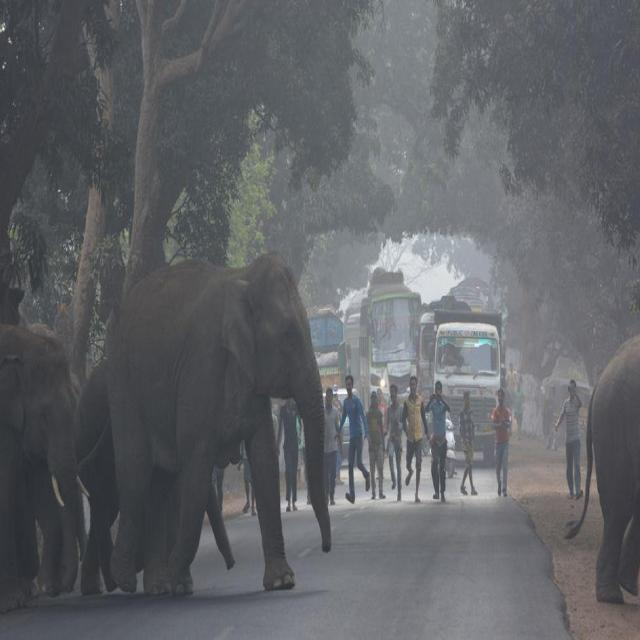Elephant: (97, 241, 340, 598), (0, 296, 95, 612), (567, 311, 640, 606)
